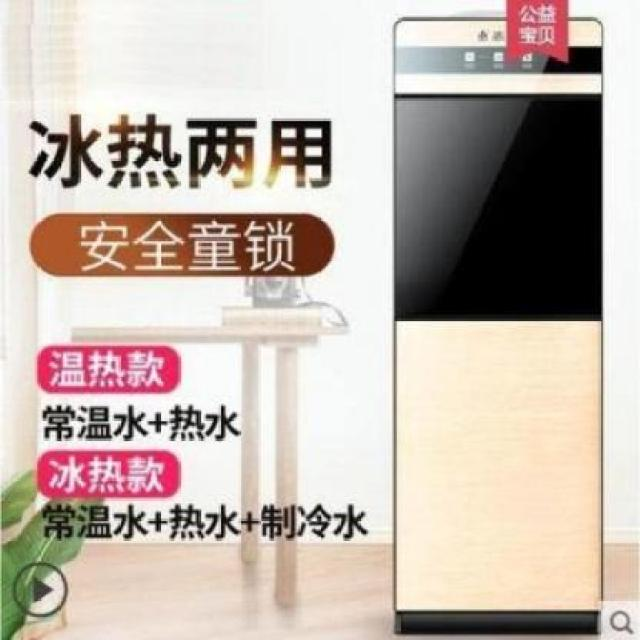cooler: (389, 11, 609, 640)
